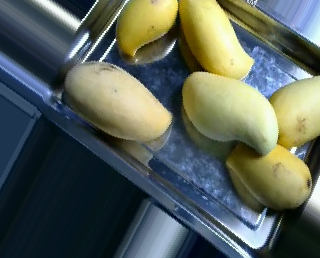Mango: (65, 60, 172, 140), (182, 69, 279, 153), (178, 0, 253, 80), (226, 137, 310, 207), (270, 75, 320, 148), (114, 0, 178, 57)
